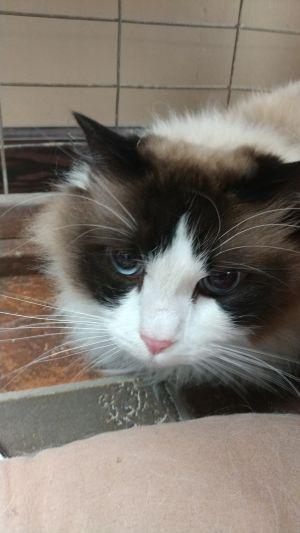ragdoll: (53, 103, 300, 390)
